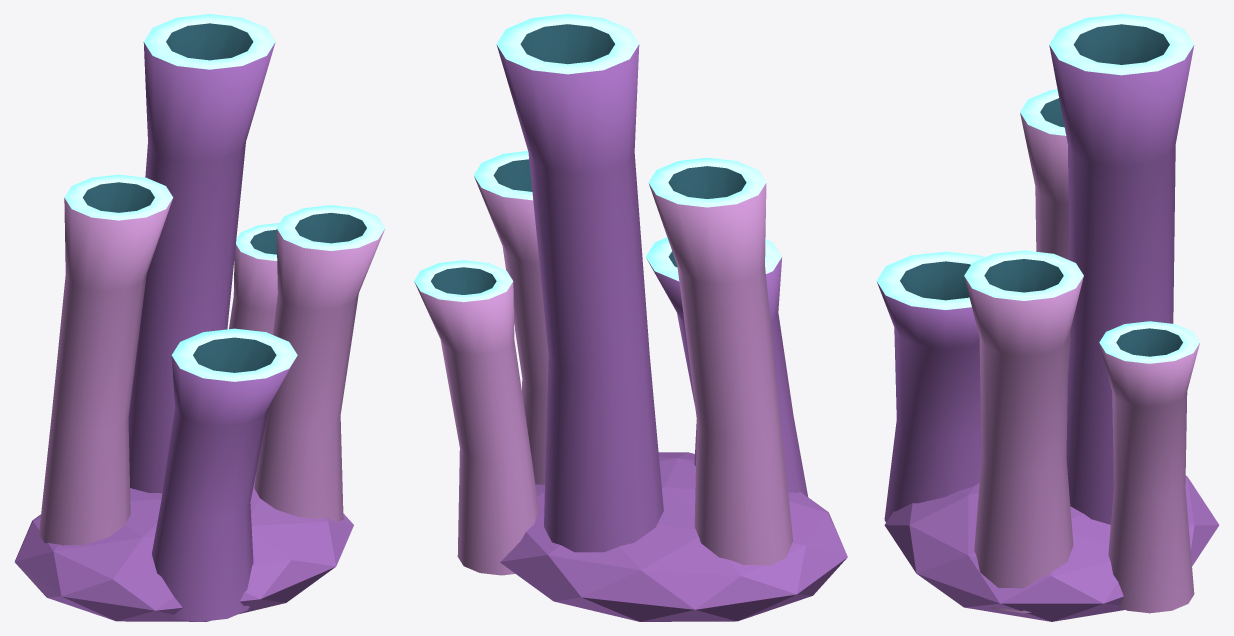
The model's file is tube_coral.glb.
3 views of the same model, side by side, from view 1: azimuth 30°, elevation 25°; view 2: azimuth 150°, elevation 25°; view 3: azimuth 270°, elevation 25° (orthographic). The views are drawn at different scales.
Parts seen in each view (by area): view 1: tube_coral; view 2: tube_coral; view 3: tube_coral.
Boxes of the visible parts, left/top/right/bottom form: tube_coral: left=14, top=14, right=385, bottom=621; tube_coral: left=414, top=14, right=847, bottom=621; tube_coral: left=876, top=14, right=1219, bottom=621.
Bounding box in the file's own units: 1.49 × 2.22 × 1.23.
